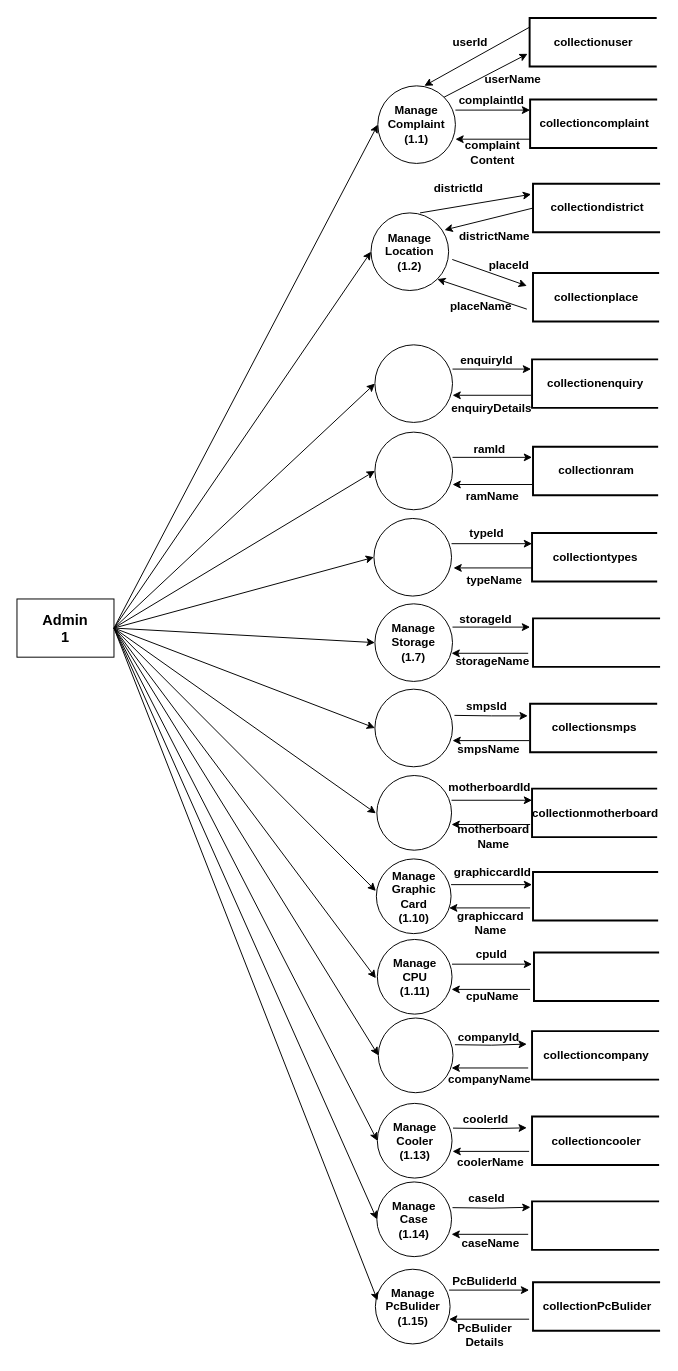
The diagram is 678 pixels wide and 1371 high, and some of its shapes have lost their labels. The box of each missing label's shape, as (x1, y1, x2, y2) in pixels:
collectioncase: (531, 1200, 660, 1250)
collectioncpu: (533, 951, 660, 1002)
collectiongraphiccard: (532, 871, 659, 921)
collectionstorage: (532, 617, 661, 667)
Manage Company (1.12): (377, 1017, 453, 1093)
Manage MotherBoard (1.9): (376, 775, 452, 850)
Manage Ram (1.5): (374, 431, 453, 510)
Manage SMPS (1.8): (374, 688, 453, 767)
Manage Types (1.6): (373, 517, 452, 596)
View Enquiry (1.4): (374, 344, 453, 422)
